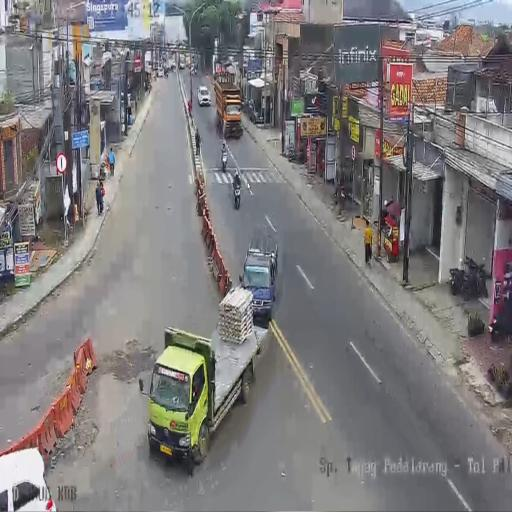car: (0, 448, 56, 510), (196, 85, 210, 106), (157, 67, 164, 77)
motorcycle: (233, 179, 241, 210), (286, 144, 298, 164), (222, 149, 228, 172), (190, 67, 196, 77), (164, 68, 168, 78)
truck: (215, 74, 242, 140), (179, 54, 185, 69), (186, 54, 190, 68)
